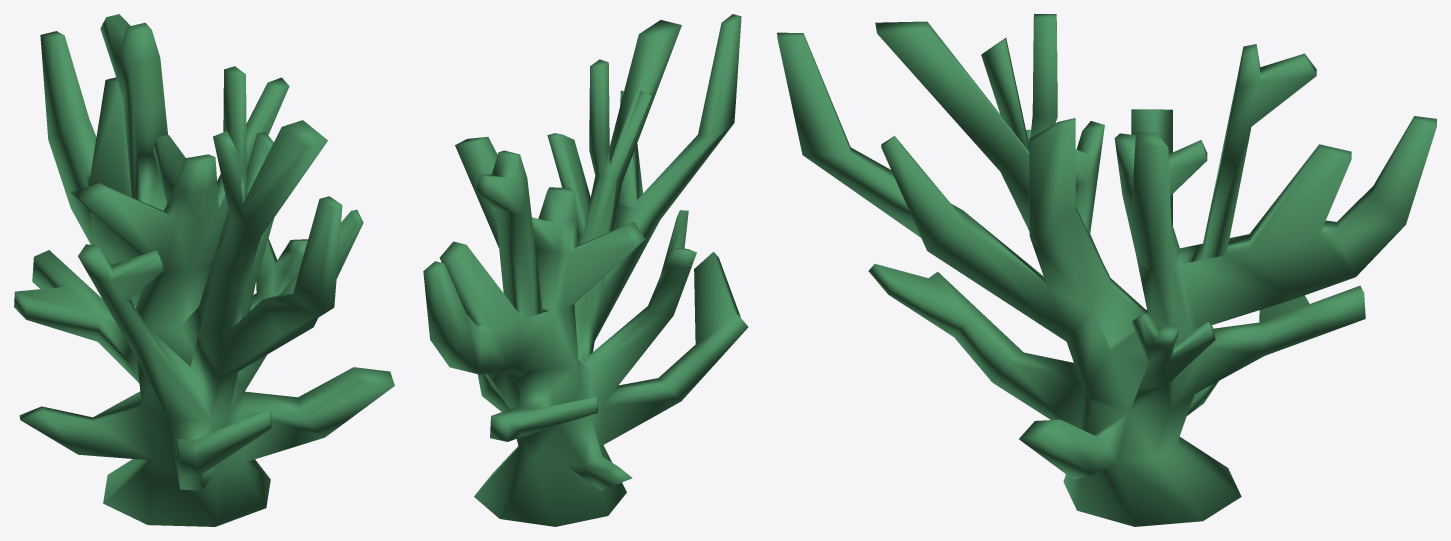
File: G_Coral_Green.gltf
3 renders of one model, left to right at view 1: azimuth 30°, elevation 25°; view 2: azimuth 150°, elevation 25°; view 3: azimuth 270°, elevation 25°, orthographic. The views are drawn at different scales.
Parts seen in each view (by area): view 1: Cylinder; view 2: Cylinder; view 3: Cylinder.
Part boxes in pixels (bbox=[...]): Cylinder: bbox=[14, 14, 394, 526]; Cylinder: bbox=[423, 14, 748, 526]; Cylinder: bbox=[777, 14, 1436, 526].
Size of the model in its own units: 2.14 by 3.25 by 4.13.
